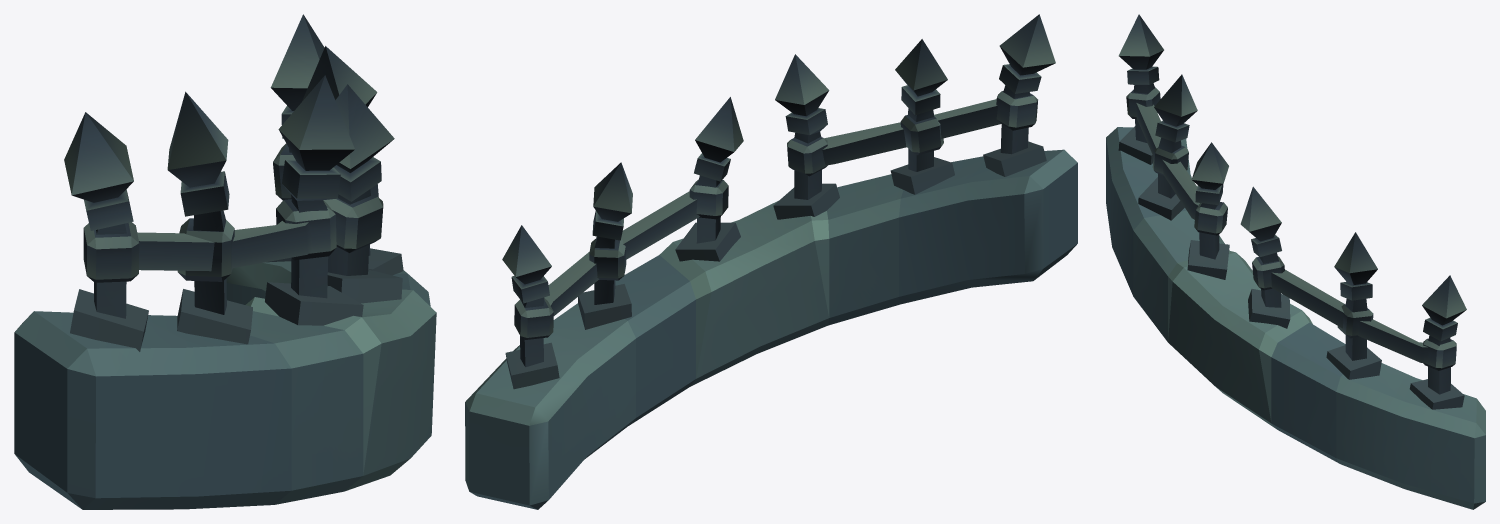
Rendered from stair_round_border_spikes_inside.fbx.
3 renders of one model, left to right at view 1: azimuth 30°, elevation 25°; view 2: azimuth 150°, elevation 25°; view 3: azimuth 270°, elevation 25°, orthographic. The views are drawn at different scales.
Visible parts, largest first — view 1: stair_round_border_spikes_inside; view 2: stair_round_border_spikes_inside; view 3: stair_round_border_spikes_inside.
Part boxes in pixels (x1=…): stair_round_border_spikes_inside: x1=14, y1=14, x2=436, y2=509; stair_round_border_spikes_inside: x1=465, y1=14, x2=1077, y2=509; stair_round_border_spikes_inside: x1=1106, y1=14, x2=1485, y2=509.
Size of the model in its own units: 228 by 232 by 228.
